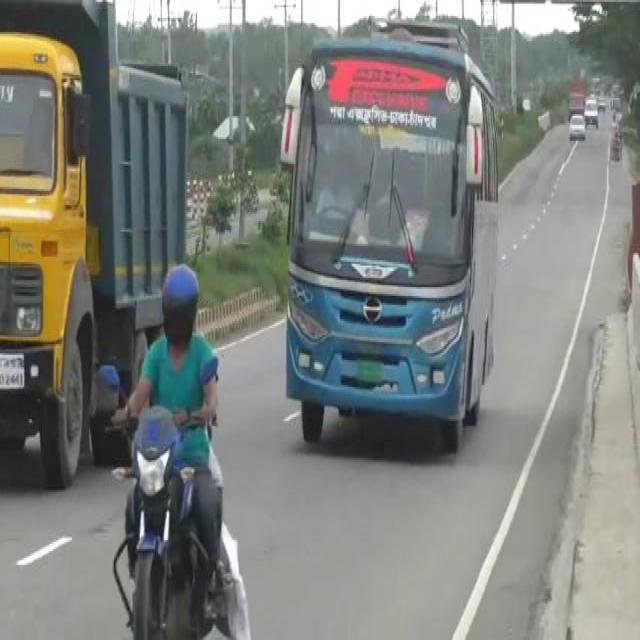bus: (272, 12, 500, 470)
car: (565, 112, 585, 146)
motorbike: (96, 260, 250, 636)
truck: (0, 0, 187, 488)
